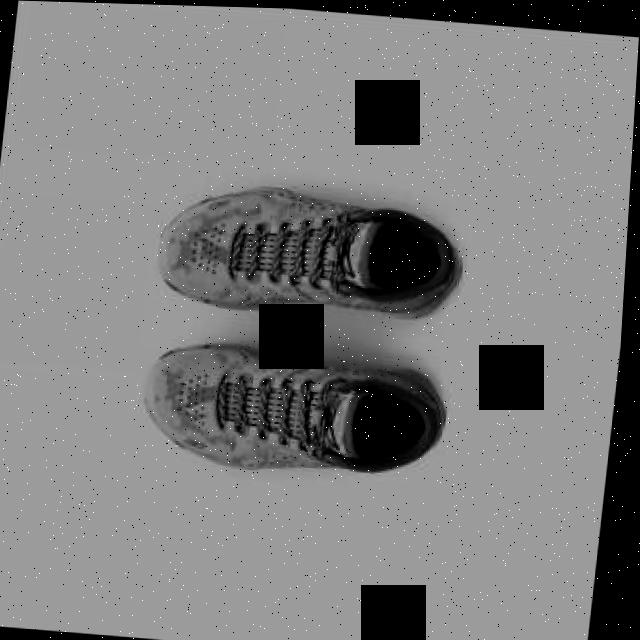shoe: (155, 174, 472, 325), (139, 333, 456, 480)
